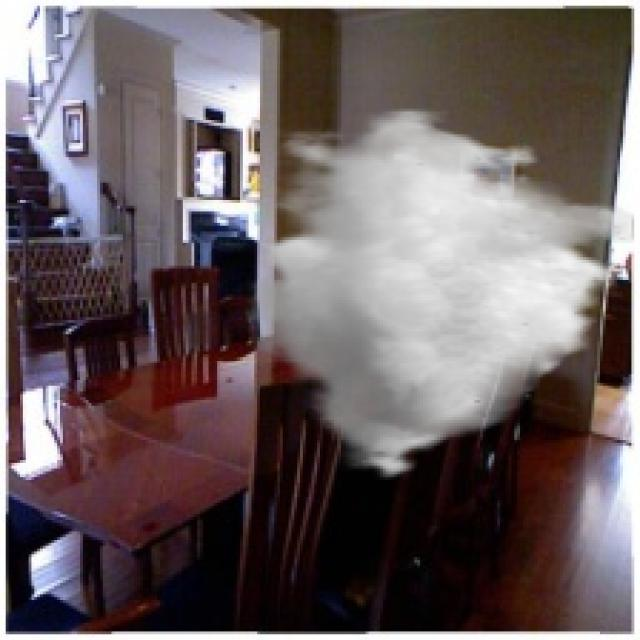smoke: (246, 108, 634, 486)
